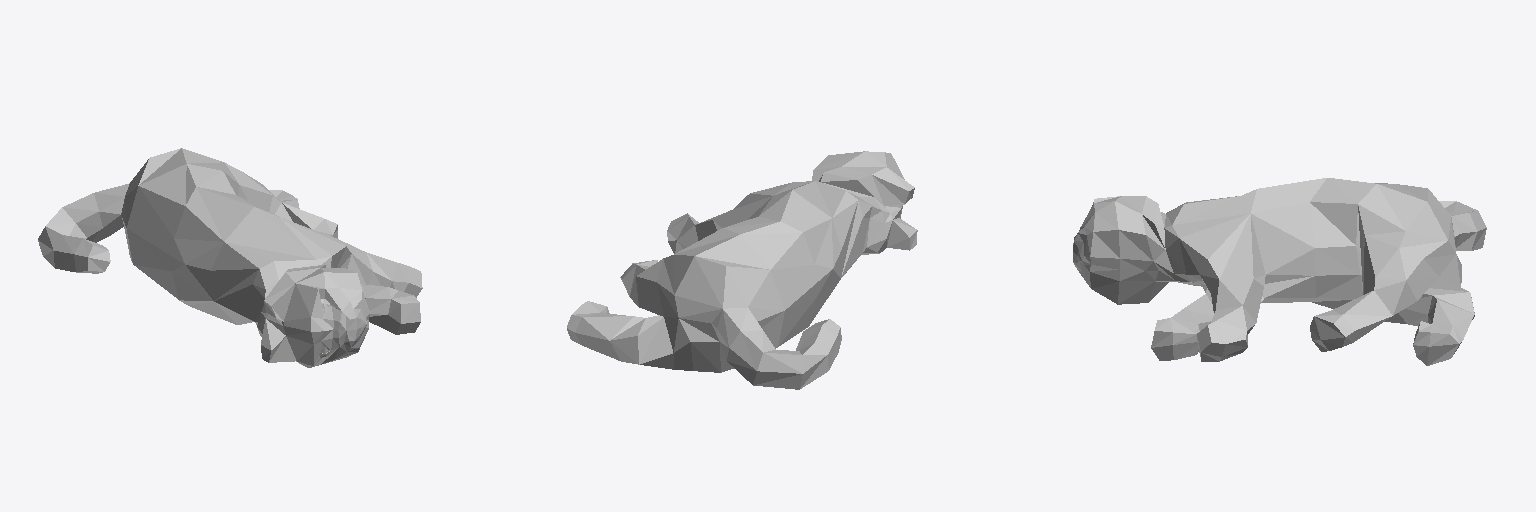
The model's file is deadcat.obj.
The picture shows the model from 3 angles: view 1: azimuth 30°, elevation 25°; view 2: azimuth 150°, elevation 25°; view 3: azimuth 270°, elevation 25°; orthographic projection.
Parts seen in each view (by area): view 1: Cube.016_Cube.017; view 2: Cube.016_Cube.017; view 3: Cube.016_Cube.017.
Boxes of the visible parts, x1,y1,x2,y2 form: Cube.016_Cube.017: [38, 148, 422, 367]; Cube.016_Cube.017: [567, 151, 917, 389]; Cube.016_Cube.017: [1073, 178, 1486, 365].
Bounding box in the file's own units: 1.36 × 0.6133 × 1.85.